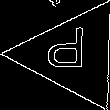P_S: (51, 29, 94, 80)
